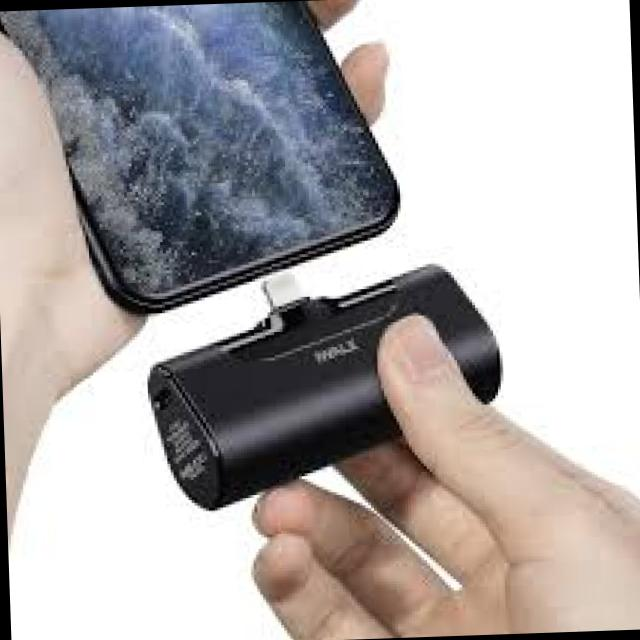portable-charger: (138, 260, 512, 512)
